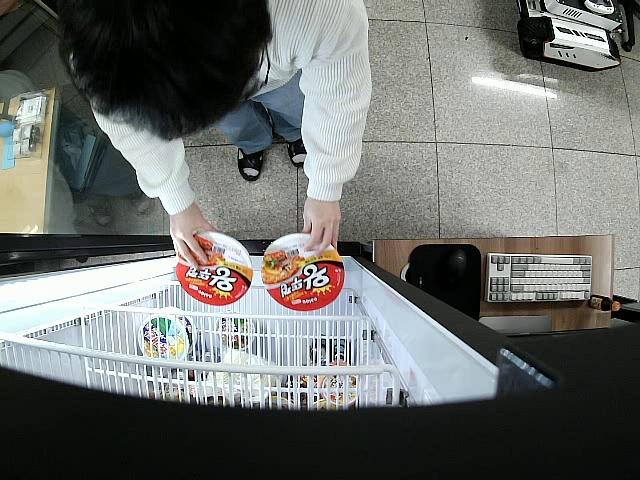00_hand: (170, 211, 217, 271), (300, 195, 342, 262)
10_wangTtukkeong: (262, 232, 345, 313), (178, 230, 253, 306)
